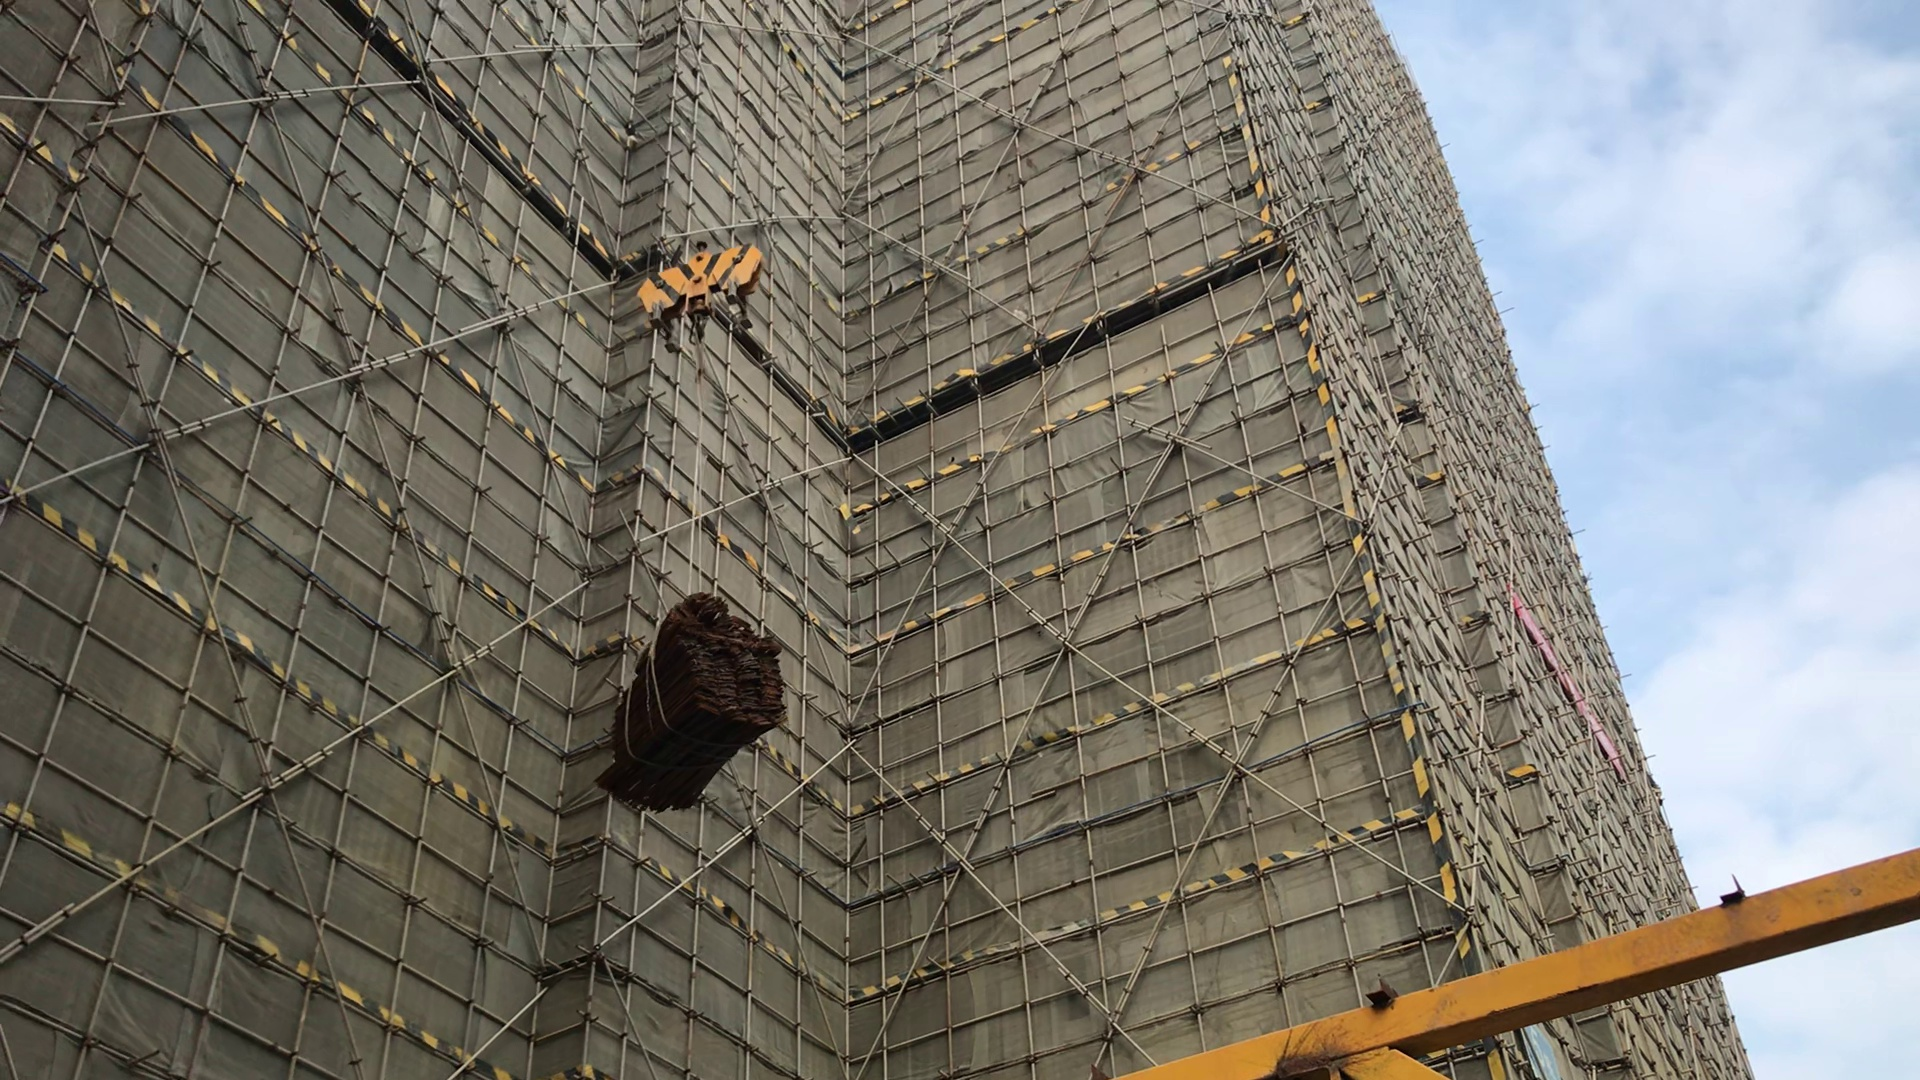hook: (636, 224, 790, 355)
